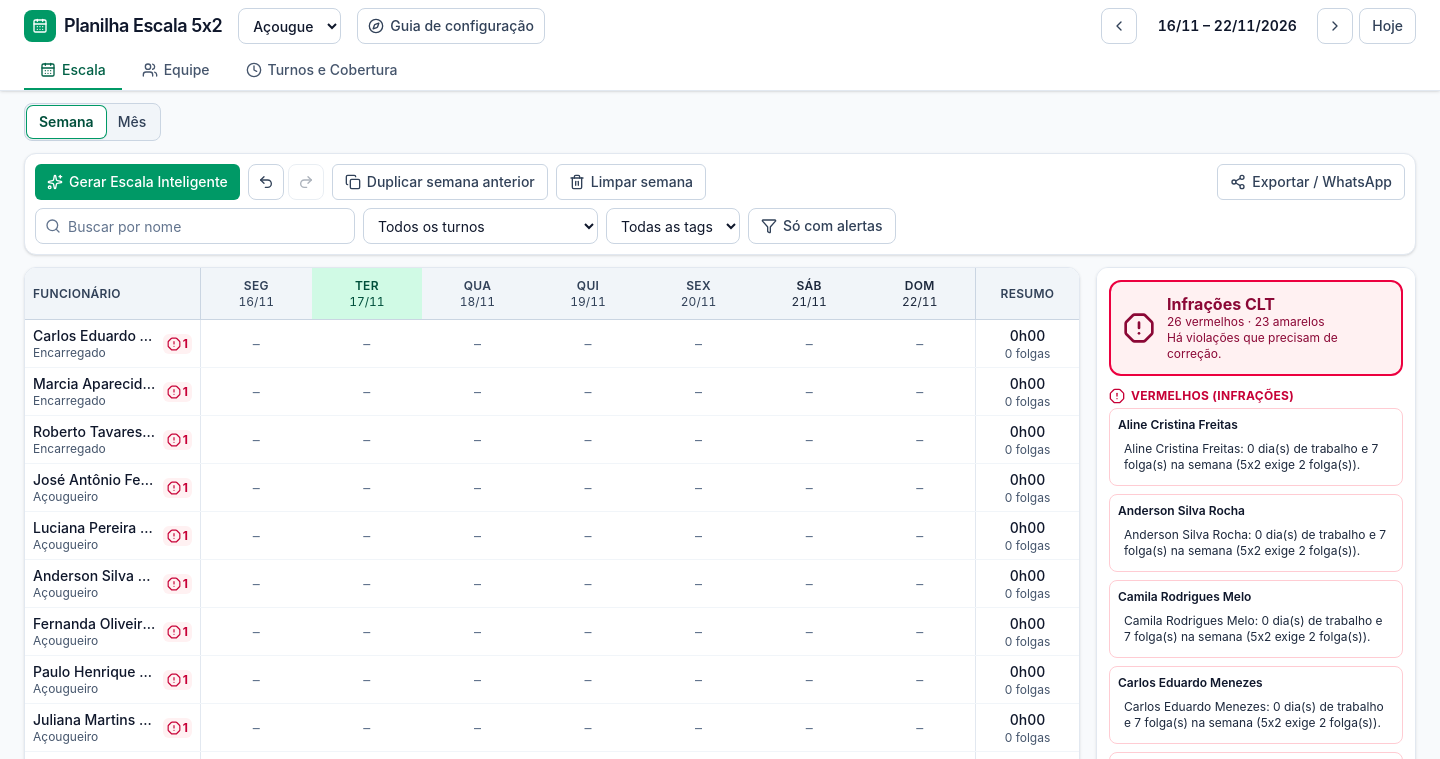
Test: OnboardingWizard › reabrir pelo Guia de configuração atualiza o setor em vez de duplicar
This screenshot has width=1440, height=759.
Click the button "Guia de configuração" at (451, 26), box x1=357 y1=8 x2=545 y2=44
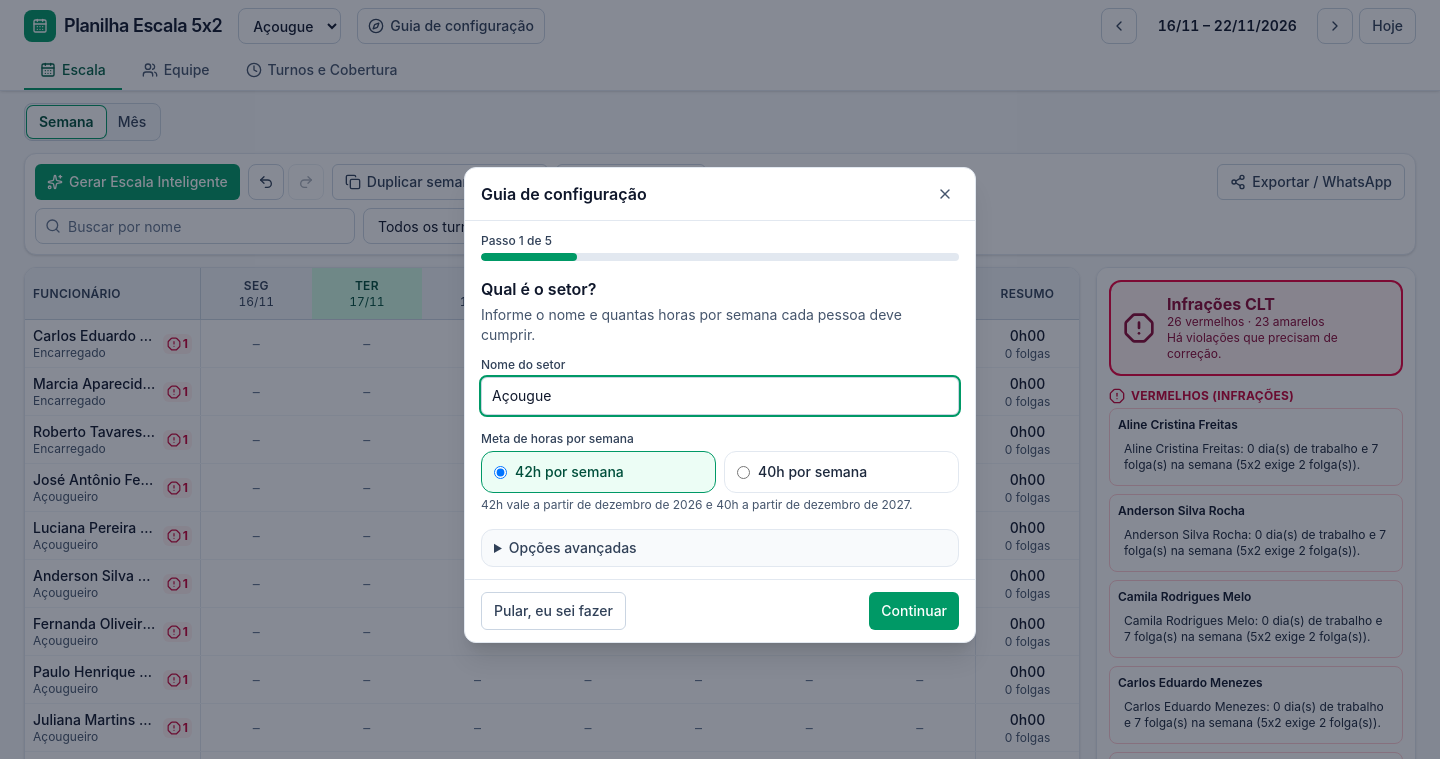
Check: the field labelled "Nome do setor" holds "Açougue"
Replace the text in the field labelled "Nome do setor" with "Açougue Novo" at (720, 396), box x1=481 y1=377 x2=959 y2=415
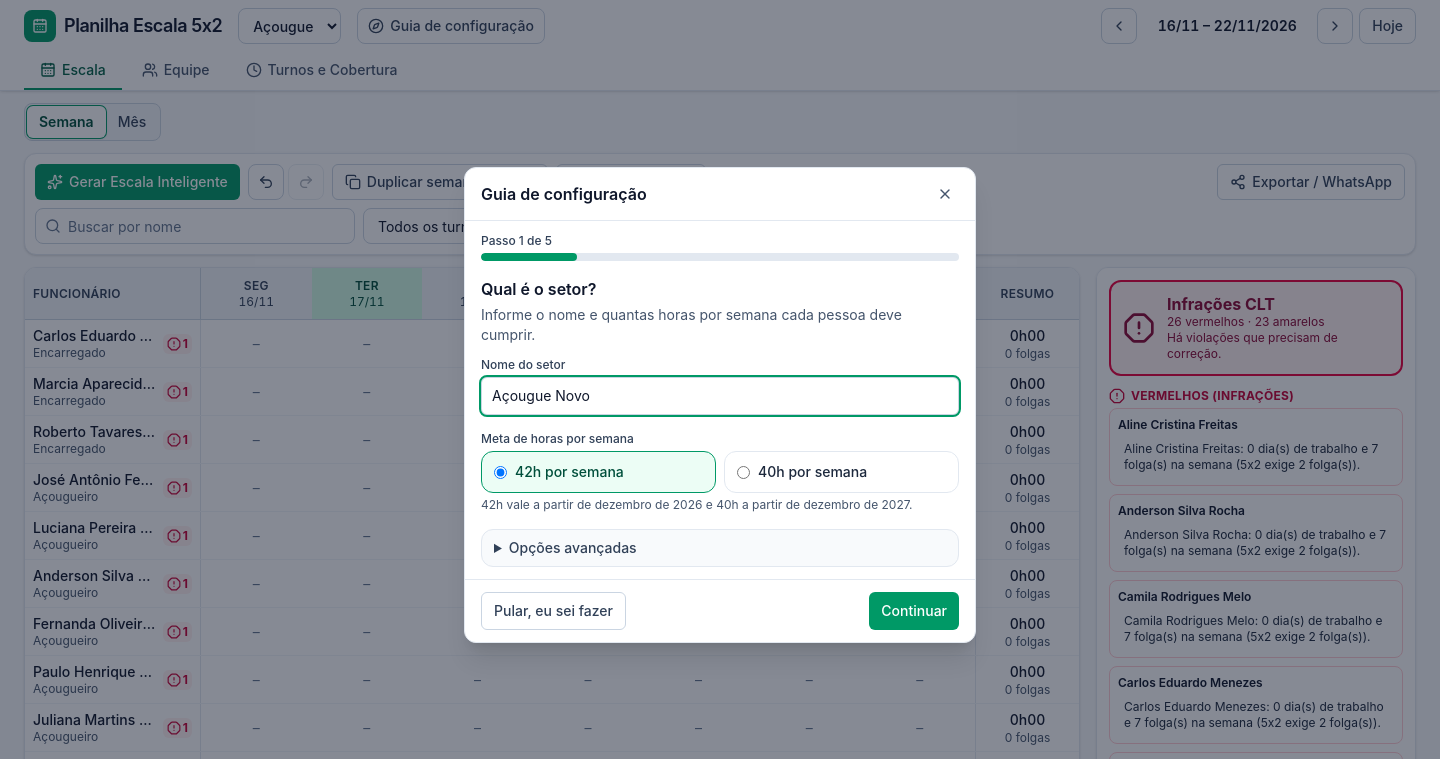
Click the button "Continuar" at (914, 611), box x1=869 y1=592 x2=959 y2=630
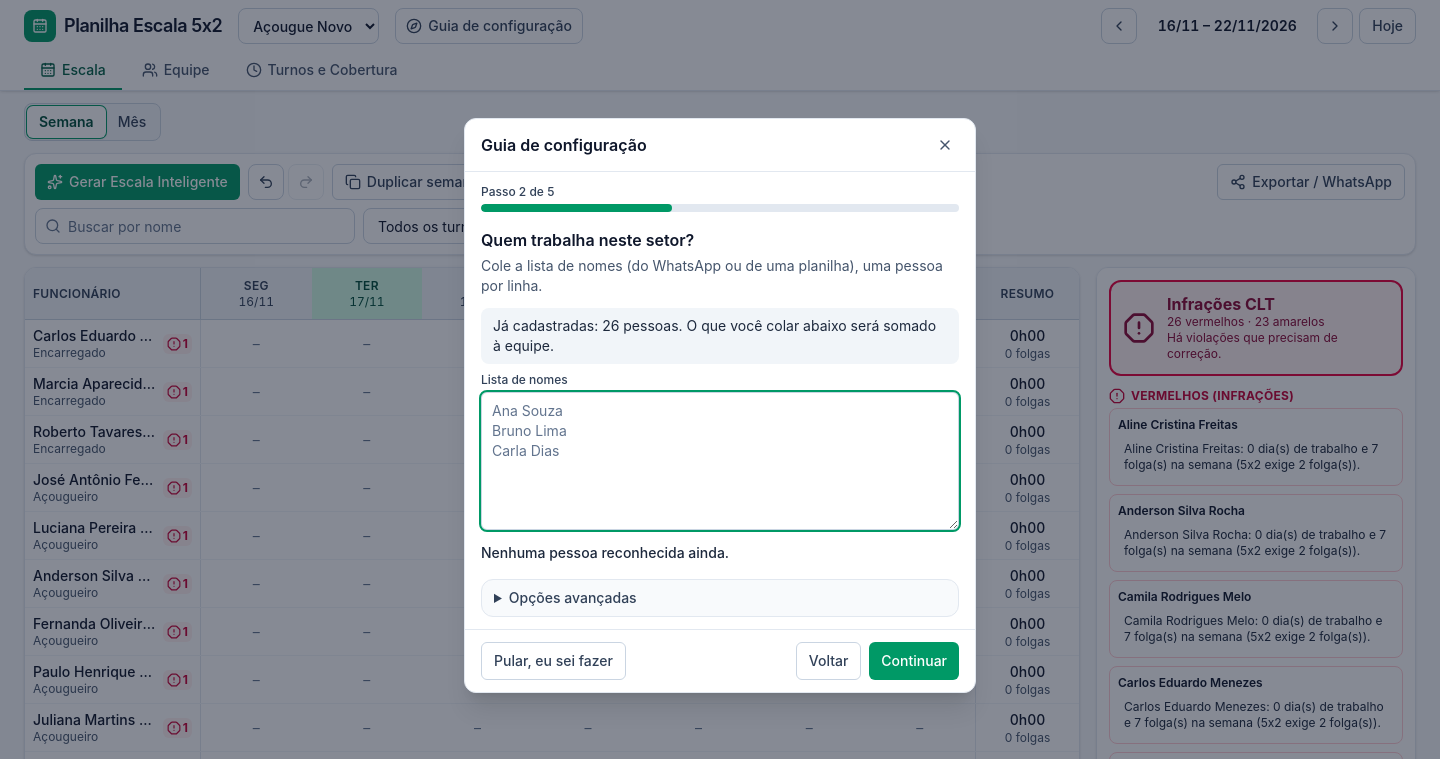
Check: the text with test id "wizard-existing-team" shows "Já cadastradas: 26", box x1=481 y1=308 x2=959 y2=364
